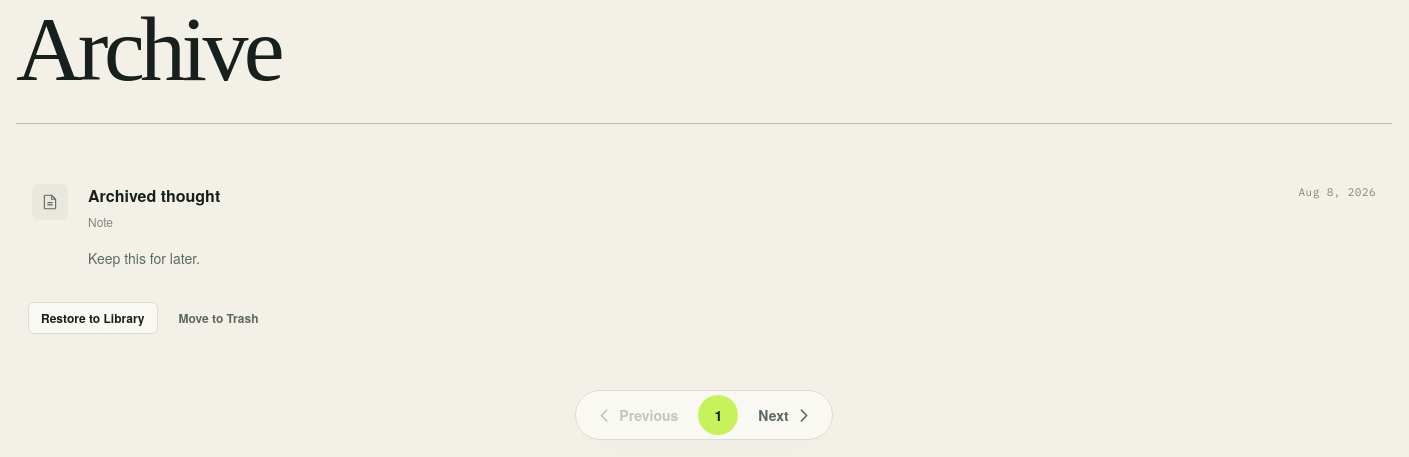
Archive and Trash collections › uses the shared pagination control for collection pages
Click the button with aria-label "Next Archive page" at (785, 415), box [742,395,828,435]
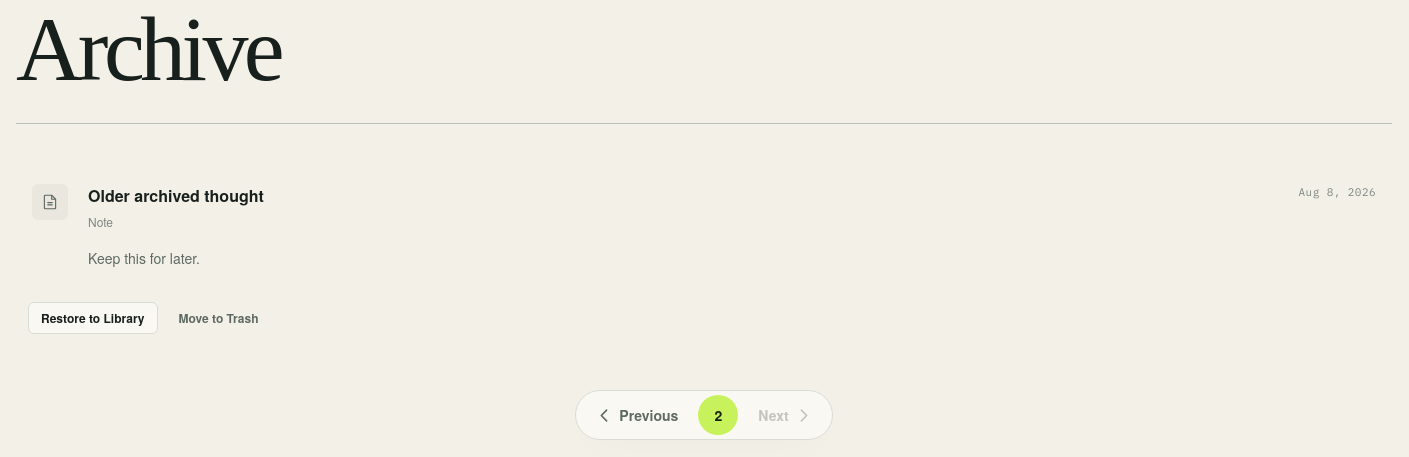
Now the heading "Older archived thought" is shown, box [88,184,264,208]
Now the text "2" is shown, box [698,395,738,435]
Click the button with aria-label "Previous Archive page" at (637, 415), box [580,395,694,435]
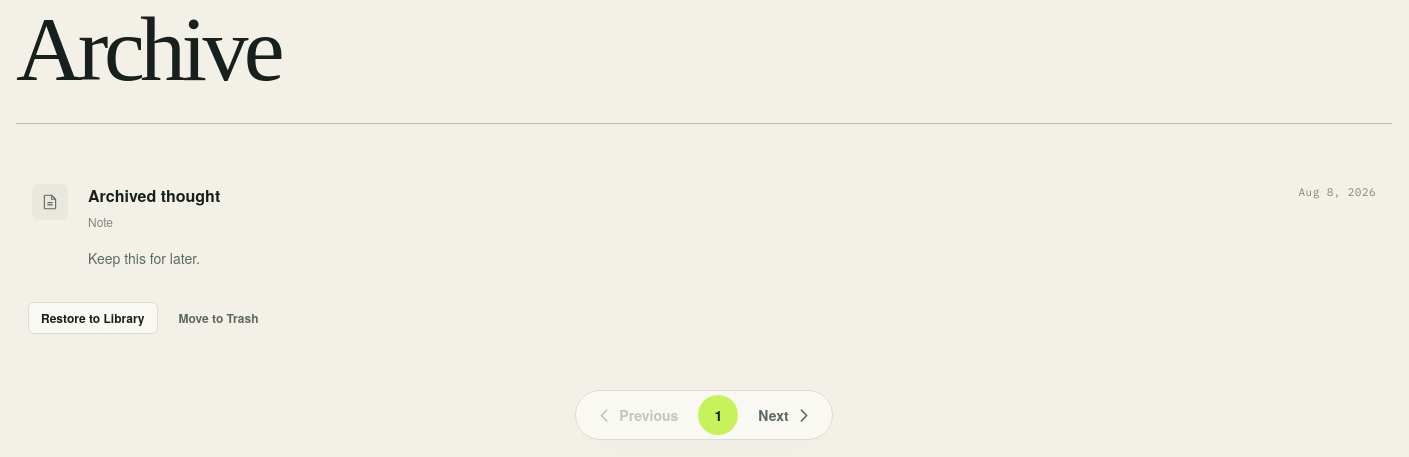
Expected: the heading "Archived thought" is shown, [88,184,220,208]
Now the heading "Older archived thought" is gone
